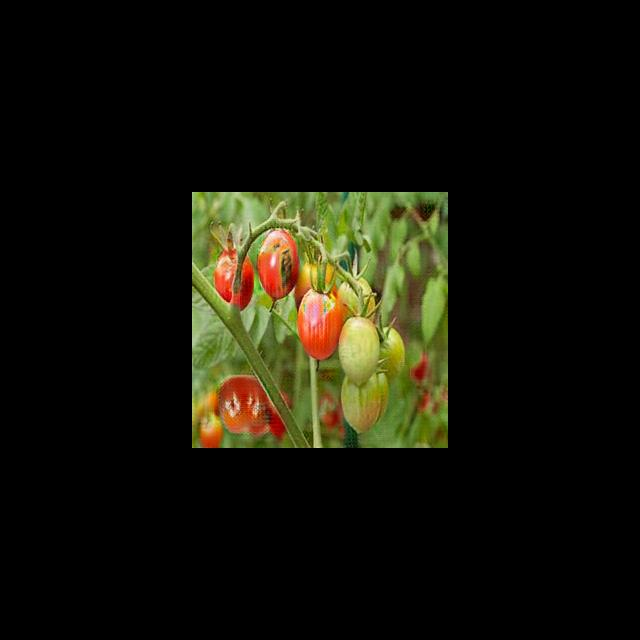tomato: (294, 288, 341, 365), (217, 374, 271, 437), (258, 228, 297, 305), (215, 251, 253, 313)
